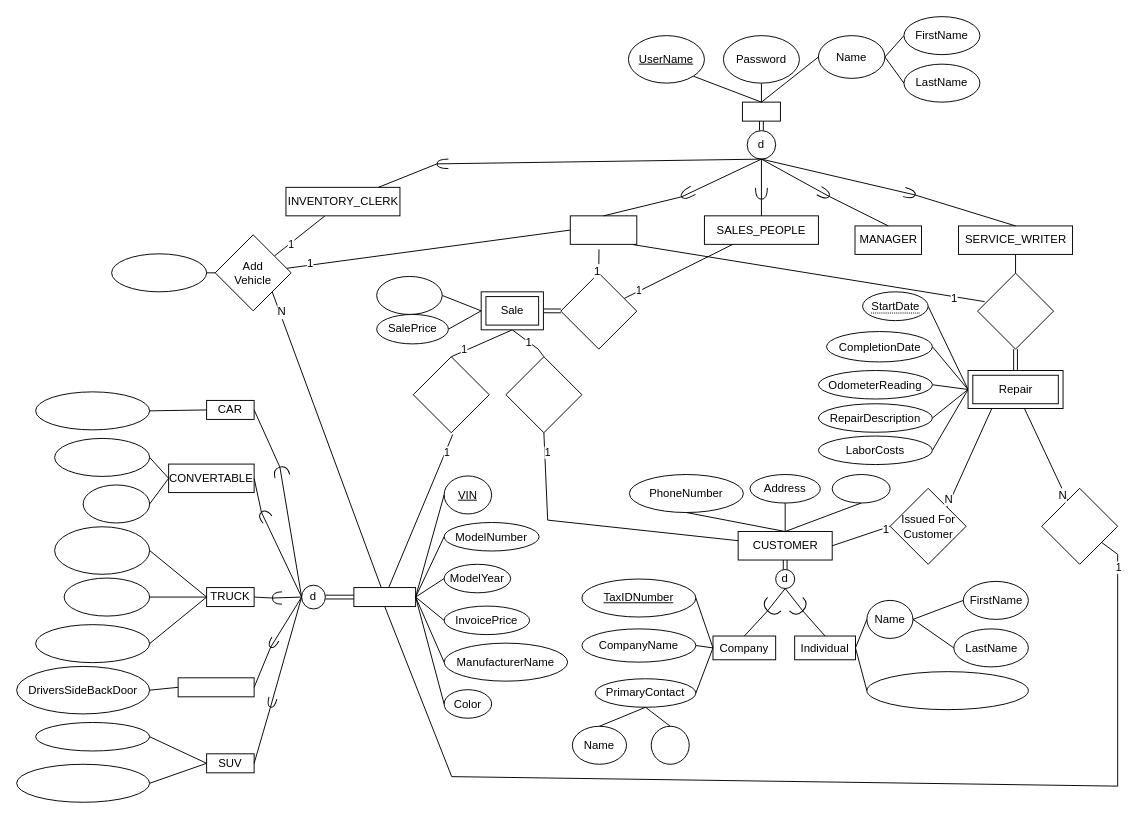
Image size: 1137x819. Some labels were removed from this diagram. The box of each missing label's shape, as (x1, y1, x2, y2) in pixels:
BackSeatCount: (54, 437, 150, 476)
CargoCapacity: (63, 577, 150, 616)
CargoCoverType: (54, 526, 150, 574)
DateAdded: (111, 253, 207, 292)
DateSold: (376, 276, 442, 314)
DriversLicenseNumber: (866, 671, 1028, 710)
DrivetrainType: (35, 722, 150, 751)
Email: (831, 474, 890, 503)
Inventory Sold: (412, 356, 489, 433)
Issue Repairs: (977, 272, 1054, 349)
Issue Sales: (560, 272, 637, 349)
Issued For Vehicle: (1041, 487, 1118, 564)
NumberOfCupHolders: (16, 763, 150, 802)
NumberOfDoors: (35, 391, 150, 430)
NumberOfRearAxels: (35, 624, 150, 663)
OWNER: (569, 215, 637, 244)
RoofType: (82, 484, 150, 523)
Sold To: (505, 356, 582, 433)
Title: (650, 725, 689, 764)
USER: (741, 101, 780, 121)
VAN/MINIVAN: (177, 677, 254, 697)
VEHICLE: (353, 587, 416, 607)
